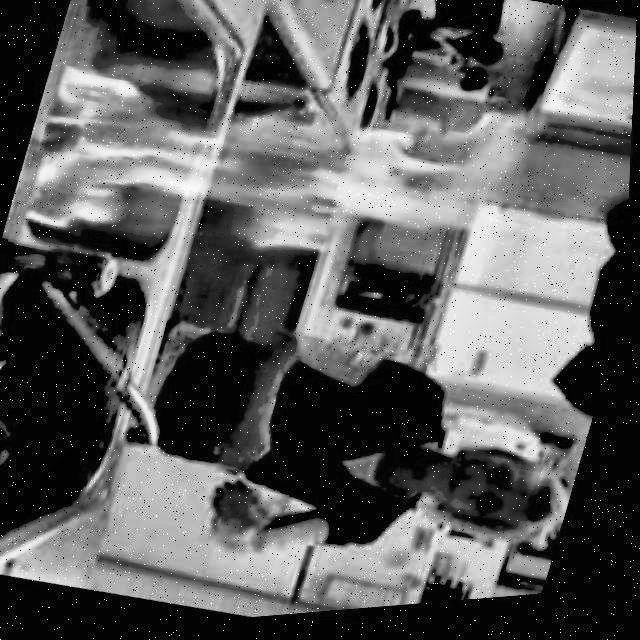Fire: (13, 39, 422, 307), (392, 91, 550, 268)
